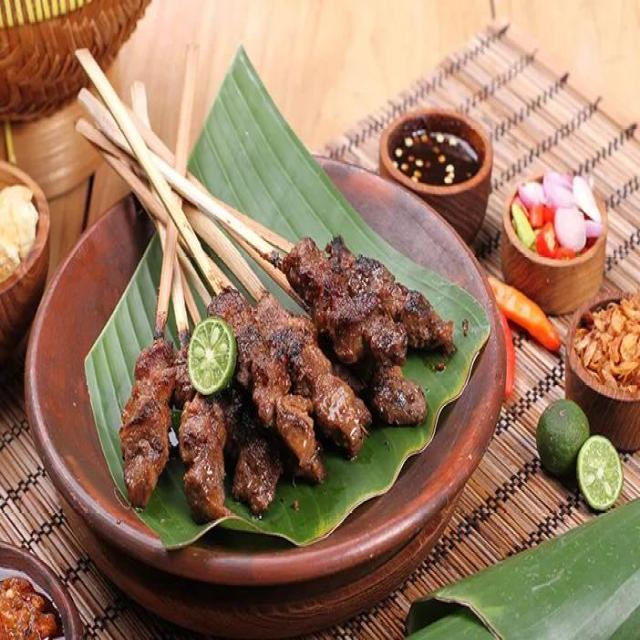Sate: (52, 84, 492, 556)
